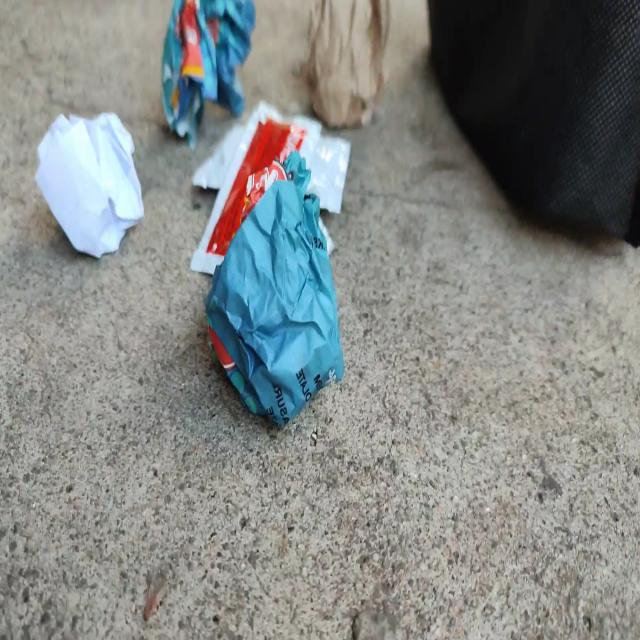paper: (204, 165, 361, 429), (29, 73, 141, 294), (156, 0, 270, 141), (307, 0, 392, 123)
